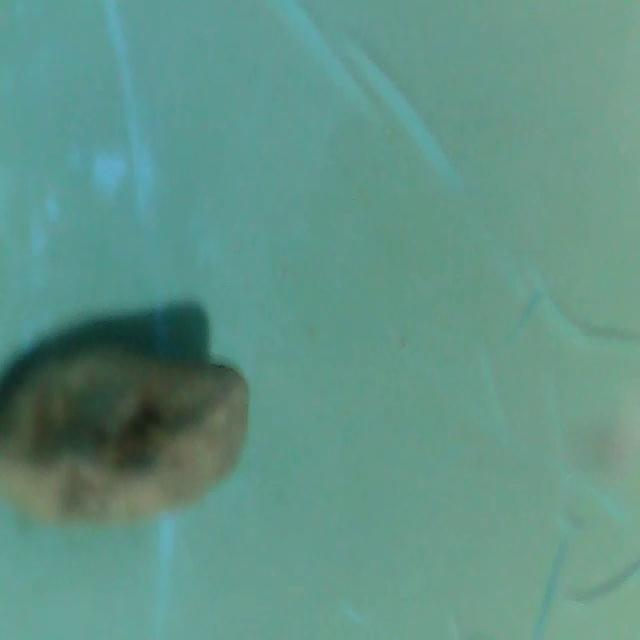rock: (0, 336, 254, 531)
